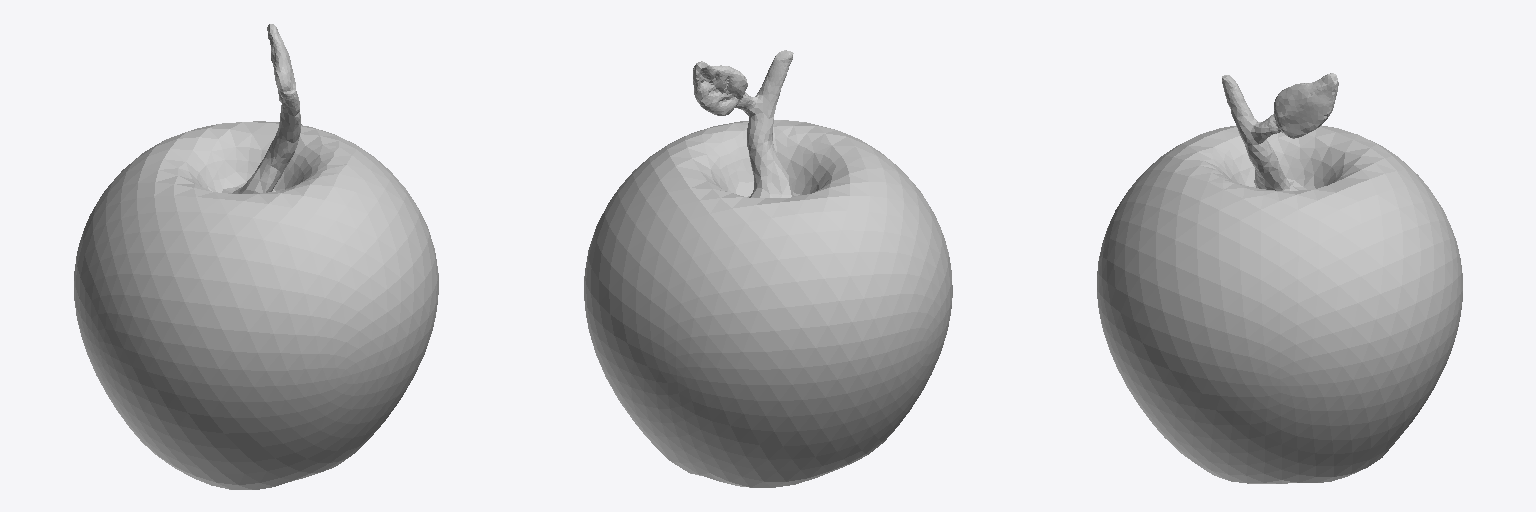
The model's file is apple_140.obj.
3 views of the same model, side by side, from view 1: azimuth 30°, elevation 25°; view 2: azimuth 150°, elevation 25°; view 3: azimuth 270°, elevation 25° (orthographic).
Parts seen in each view (by area): view 1: body_Manzana.028, stem_Manzana.028; view 2: body_Manzana.028, stem_Manzana.028; view 3: body_Manzana.028, stem_Manzana.028.
Part boxes in pixels (bbox=[...]): body_Manzana.028: bbox=[74, 121, 438, 489]; stem_Manzana.028: bbox=[94, 24, 301, 412]; body_Manzana.028: bbox=[584, 120, 952, 487]; stem_Manzana.028: bbox=[609, 50, 922, 416]; body_Manzana.028: bbox=[1097, 125, 1462, 483]; stem_Manzana.028: bbox=[1222, 73, 1457, 349].
Size of the model in its own units: 8.24 by 10.03 by 8.22.